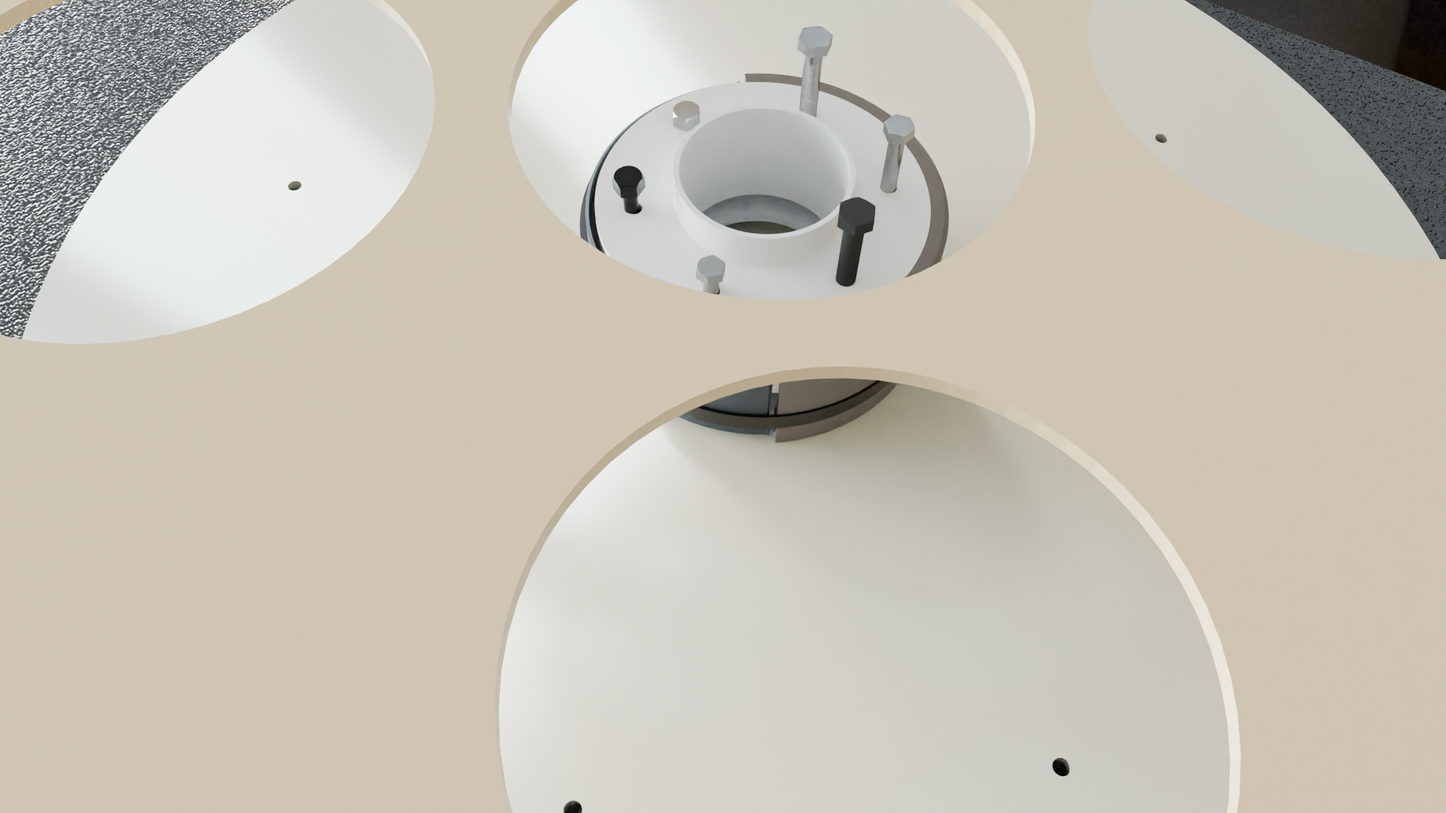bolt: (839, 196, 876, 227), (798, 26, 833, 48), (612, 166, 645, 189), (884, 114, 916, 137), (696, 255, 725, 279), (673, 101, 700, 123)
